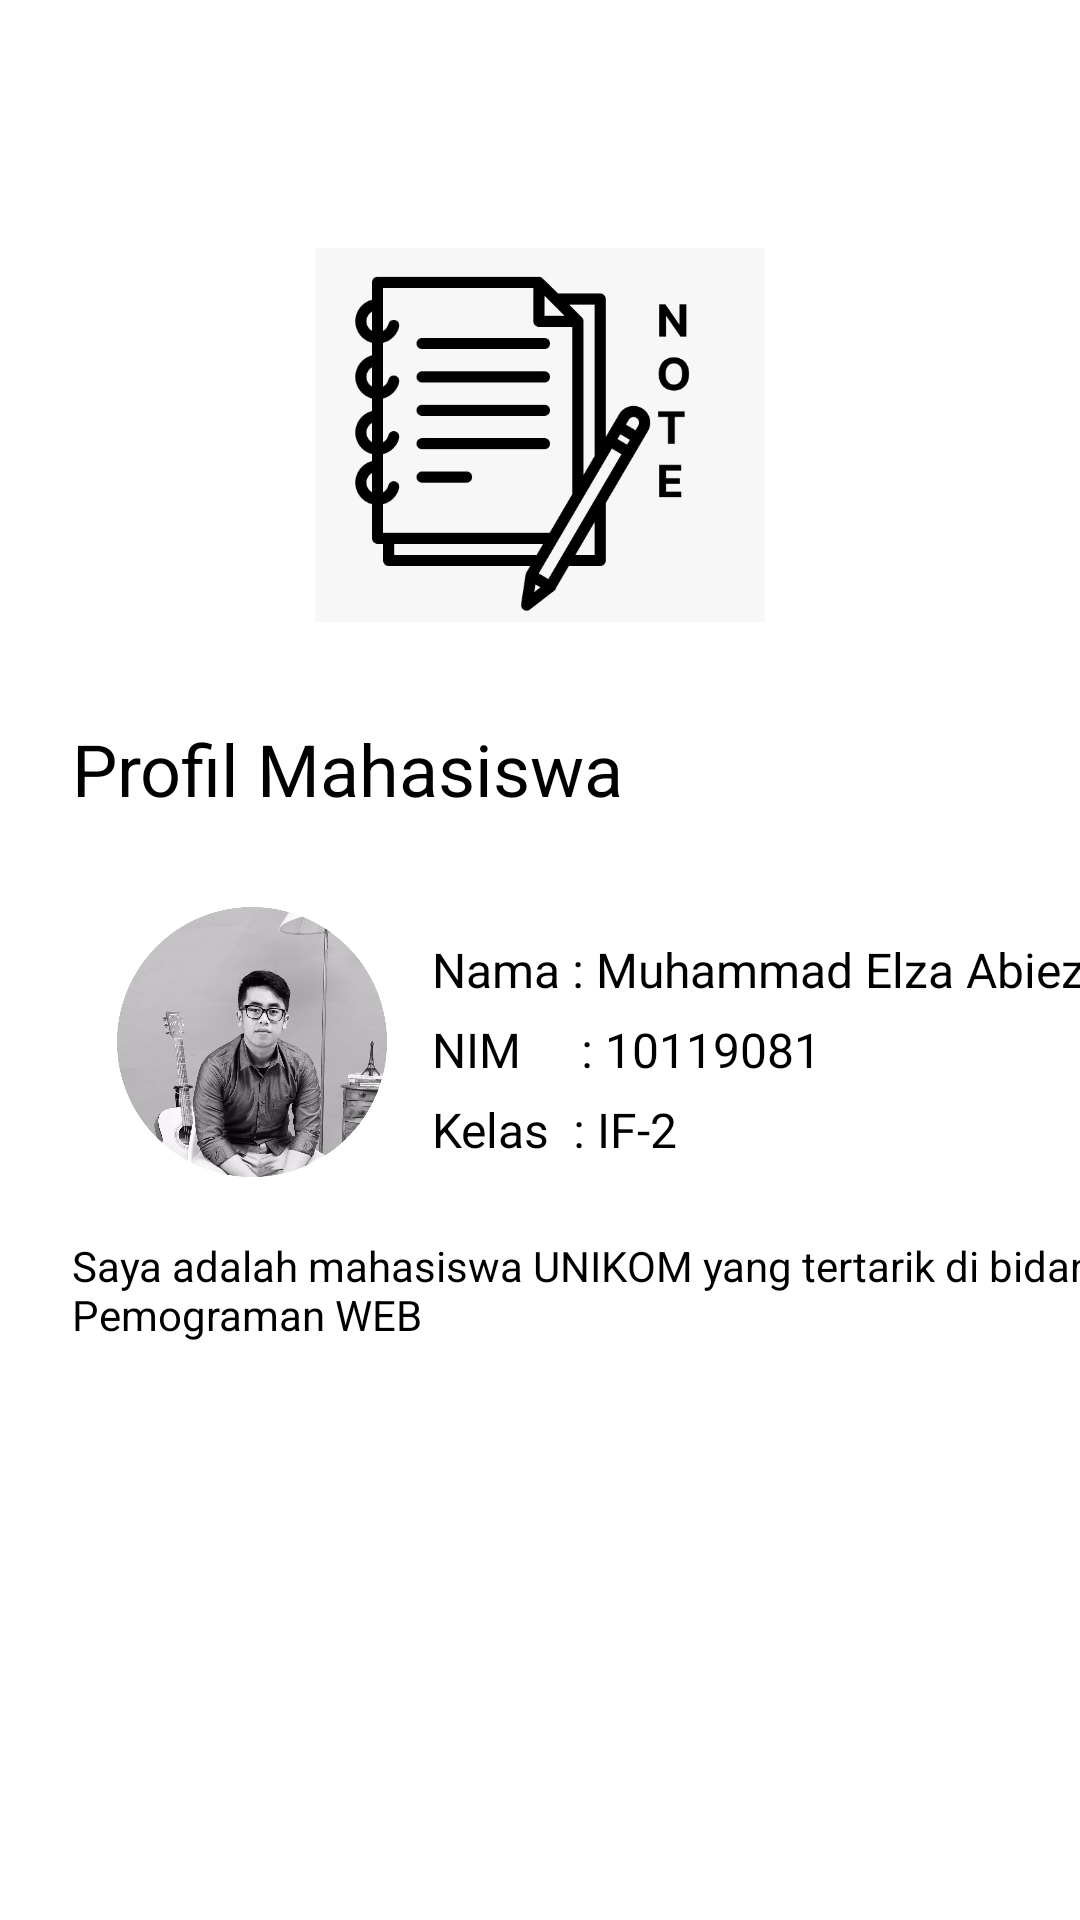

Locate icon controls on the screen. Image size 1080*1920, boxes as (x1, y1, x2, y2).
foto profil fix: (117, 907, 387, 1177)
